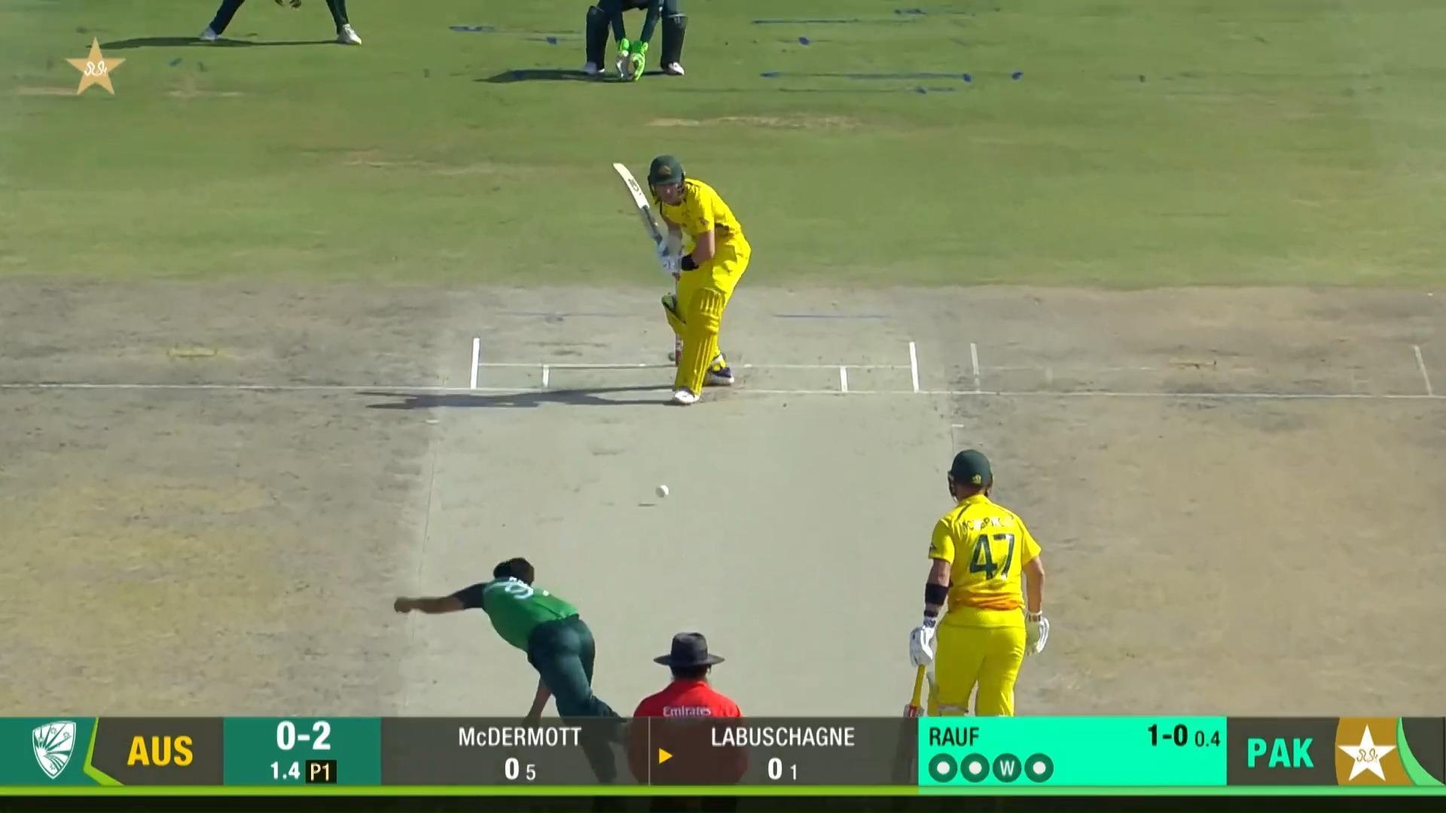BM 1: (611, 152, 752, 406)
BO: (393, 555, 631, 784)
